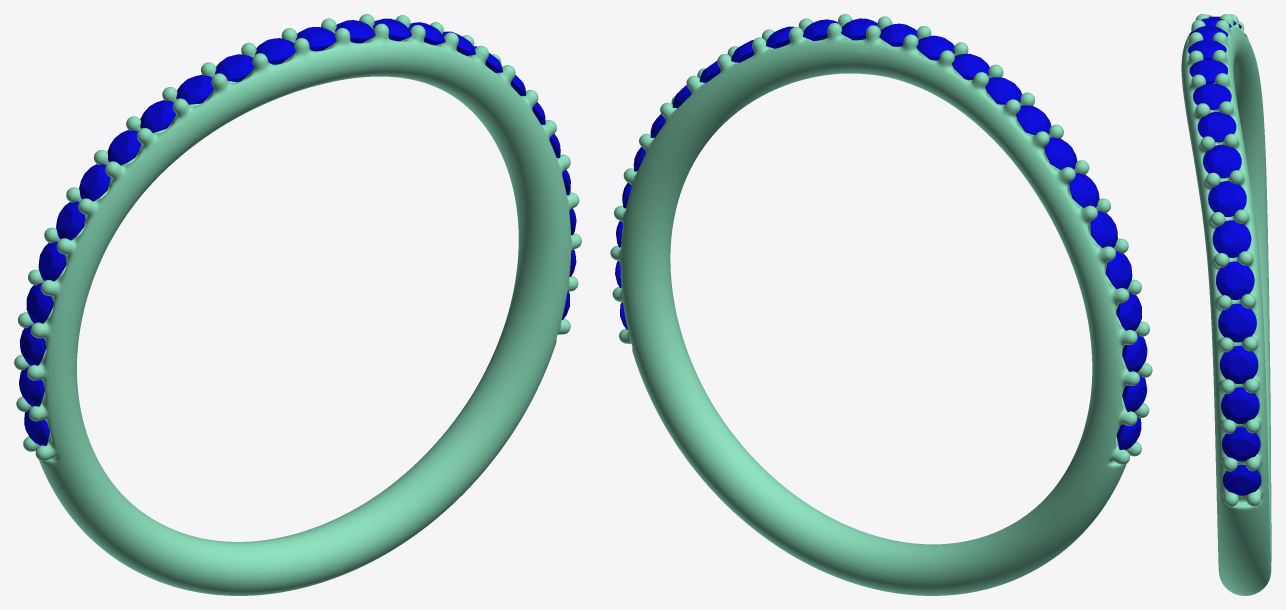
3 views of the same model, side by side, from view 1: azimuth 30°, elevation 25°; view 2: azimuth 150°, elevation 25°; view 3: azimuth 270°, elevation 25° (orthographic). The views are drawn at different scales.
Visible parts, largest first — view 1: Metal03, Diamond_Band.019, Diamond_Band.020, Diamond_Band.018, Diamond_Band.021, Diamond_Band.022, Diamond_Band.017, Diamond_Band.023, Diamond_Band.016, Diamond_Band.024; view 2: Metal03, Diamond_Band.019, Diamond_Band.020, Diamond_Band.018, Diamond_Band.021, Diamond_Band.017, Diamond_Band.022, Diamond_Band.016; view 3: Metal03, Diamond_Band.008, Diamond_Band.007, Diamond_Band.009, Diamond_Band.006, Diamond_Band.010, Diamond_Band.005, Diamond_Band.011, Diamond_Band.004, Diamond_Band.012, Diamond_Band.003, Diamond_Band.002 (+3 smaller).
Part boxes in pixels (x1=…): Metal03: x1=14, y1=14, x2=581, y2=595; Diamond_Band.019: x1=79, y1=164, x2=110, y2=201; Diamond_Band.020: x1=107, y1=130, x2=141, y2=165; Diamond_Band.018: x1=56, y1=201, x2=84, y2=240; Diamond_Band.021: x1=140, y1=100, x2=175, y2=132; Diamond_Band.022: x1=176, y1=75, x2=214, y2=104; Diamond_Band.017: x1=38, y1=241, x2=66, y2=281; Diamond_Band.023: x1=215, y1=54, x2=254, y2=82; Diamond_Band.016: x1=26, y1=283, x2=53, y2=323; Diamond_Band.024: x1=255, y1=38, x2=295, y2=64; Metal03: x1=610, y1=14, x2=1152, y2=595; Diamond_Band.019: x1=1069, y1=173, x2=1099, y2=207; Diamond_Band.020: x1=1044, y1=137, x2=1077, y2=169; Diamond_Band.018: x1=1090, y1=211, x2=1117, y2=247; Diamond_Band.021: x1=1016, y1=105, x2=1051, y2=135; Diamond_Band.017: x1=1105, y1=251, x2=1132, y2=289; Diamond_Band.022: x1=985, y1=77, x2=1021, y2=104; Diamond_Band.016: x1=1116, y1=292, x2=1141, y2=330; Metal03: x1=1181, y1=14, x2=1271, y2=595; Diamond_Band.008: x1=1218, y1=303, x2=1256, y2=342; Diamond_Band.007: x1=1216, y1=261, x2=1254, y2=299; Diamond_Band.009: x1=1219, y1=346, x2=1258, y2=383; Diamond_Band.006: x1=1212, y1=220, x2=1251, y2=257; Diamond_Band.010: x1=1221, y1=387, x2=1259, y2=423; Diamond_Band.005: x1=1208, y1=181, x2=1246, y2=216; Diamond_Band.011: x1=1222, y1=427, x2=1260, y2=461; Diamond_Band.004: x1=1203, y1=144, x2=1241, y2=178; Diamond_Band.012: x1=1222, y1=464, x2=1261, y2=495; Diamond_Band.003: x1=1197, y1=112, x2=1236, y2=142; Diamond_Band.002: x1=1193, y1=83, x2=1231, y2=109.
Bounding box in the file's own units: 21.28 × 21.06 × 3.27.
